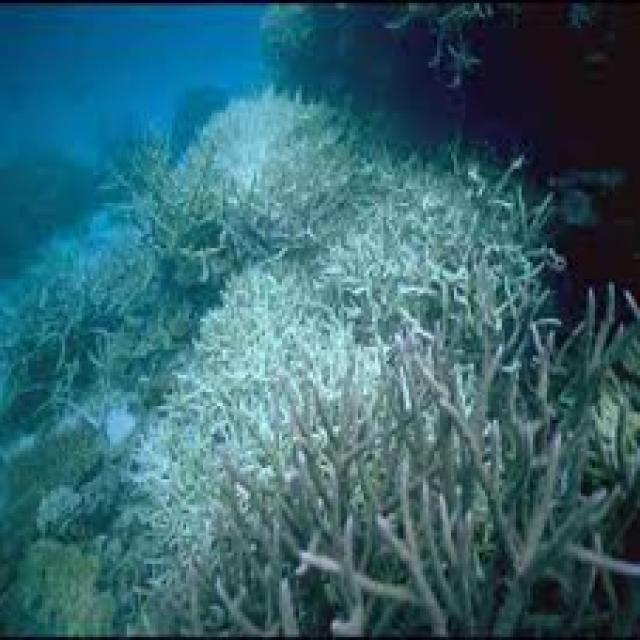Bleached: (217, 322, 640, 640), (302, 165, 486, 347), (187, 89, 345, 259), (196, 246, 410, 364), (137, 359, 228, 617), (439, 164, 551, 343), (121, 146, 264, 262)
